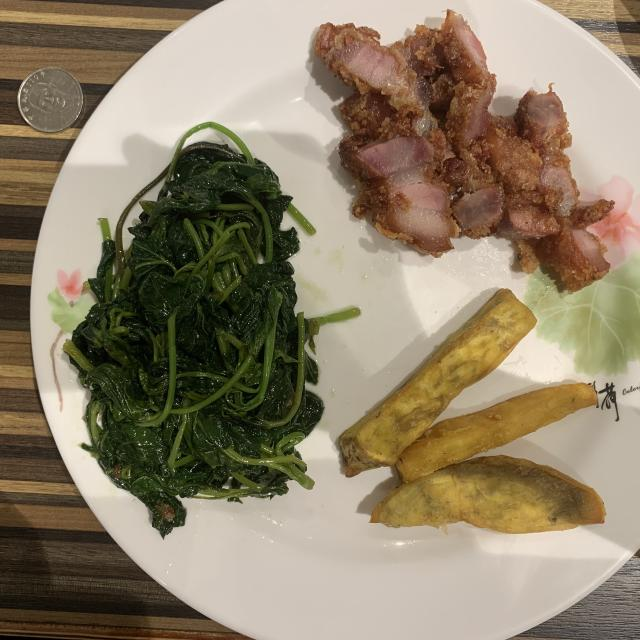coin: (18, 68, 84, 132)
red grilled pork: (315, 11, 614, 291)
sweet potato leaves: (64, 142, 360, 536)
